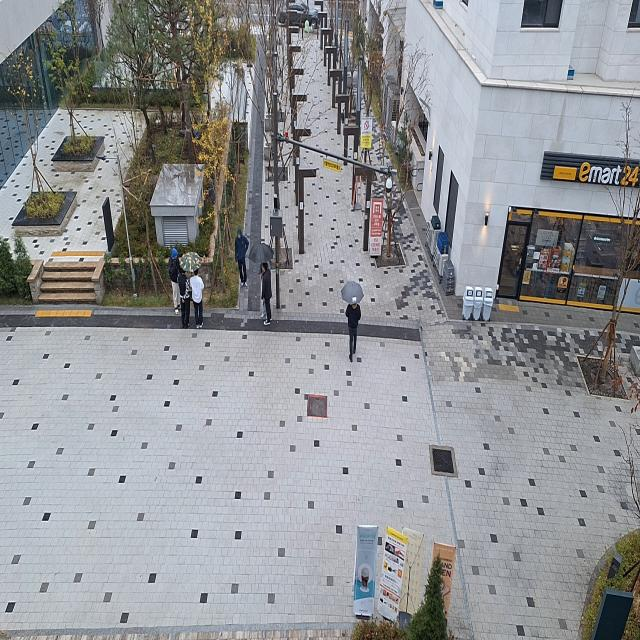Car: (273, 0, 321, 32)
